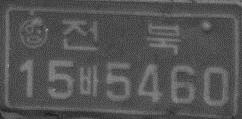0: (202, 65, 230, 107)
1: (17, 59, 42, 98)
4: (136, 63, 163, 103)
5: (47, 59, 73, 100), (105, 61, 131, 101)
6: (169, 65, 196, 104)
바: (78, 65, 100, 99)
영: (17, 18, 49, 49)
전북_D: (61, 18, 180, 56)
